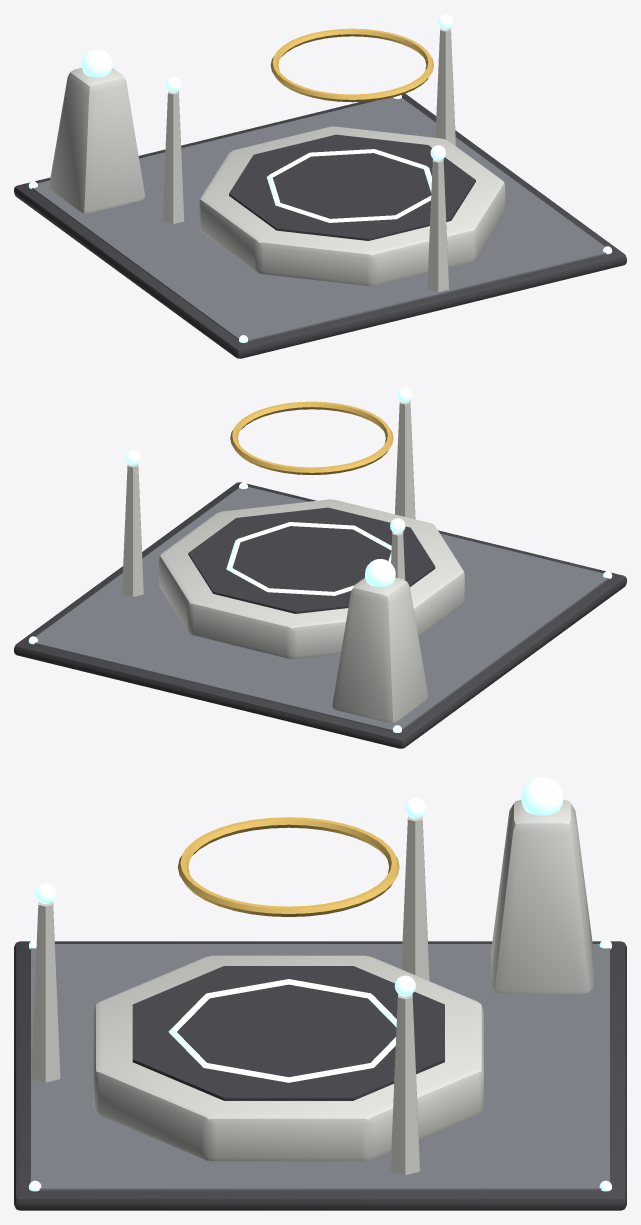
File: starport_rob.glb
3 views of the same model, one above another, from view 1: azimuth 30°, elevation 25°; view 2: azimuth 150°, elevation 25°; view 3: azimuth 270°, elevation 25° (orthographic). The views are drawn at different scales.
Visible parts, largest first — view 1: starport_rob, spin_m; view 2: starport_rob, spin_m; view 3: starport_rob, spin_m.
Boxes of the visible parts, bbox=[...] form: starport_rob: bbox=[14, 14, 626, 358]; spin_m: bbox=[270, 28, 433, 102]; starport_rob: bbox=[14, 387, 626, 748]; spin_m: bbox=[230, 401, 393, 474]; starport_rob: bbox=[14, 777, 626, 1210]; spin_m: bbox=[178, 817, 399, 916].
Size of the model in its own units: 2.9 by 1.22 by 2.9.
